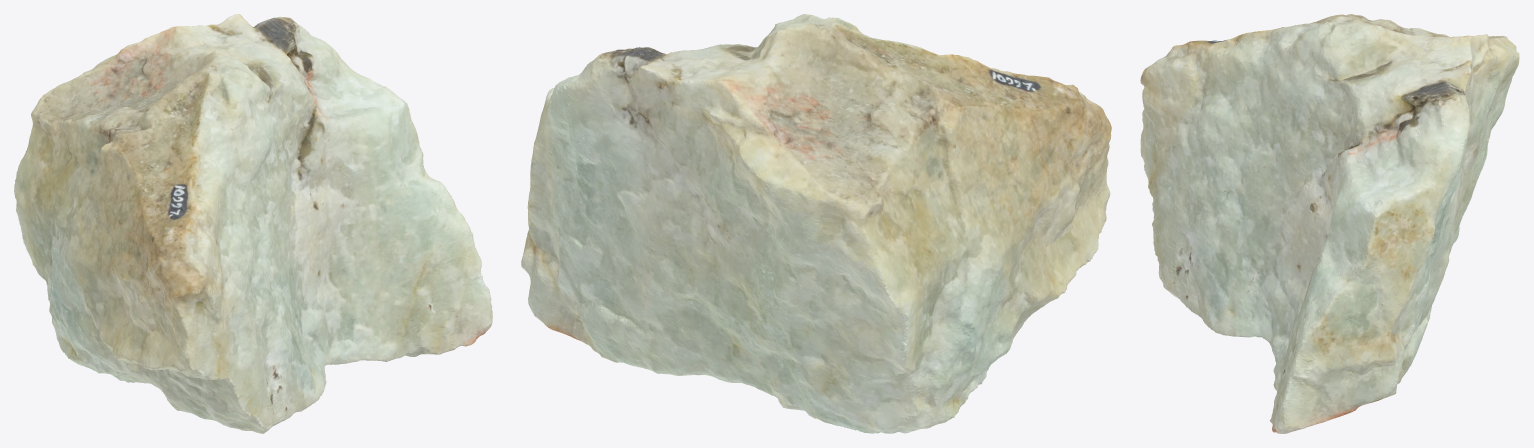
The model's file is aquamarine.glb.
The picture shows the model from 3 angles, left to right: view 1: azimuth 30°, elevation 25°; view 2: azimuth 150°, elevation 25°; view 3: azimuth 270°, elevation 25°; orthographic projection. The views are drawn at different scales.
Parts seen in each view (by area): view 1: Object_2; view 2: Object_2; view 3: Object_2.
Boxes of the visible parts, <box> form: Object_2: <box>14,14,492,433</box>; Object_2: <box>521,14,1111,433</box>; Object_2: <box>1140,14,1519,433</box>.
Size of the model in its own units: 0.4594 by 0.3445 by 0.3795.
1 material, 1 textured.
